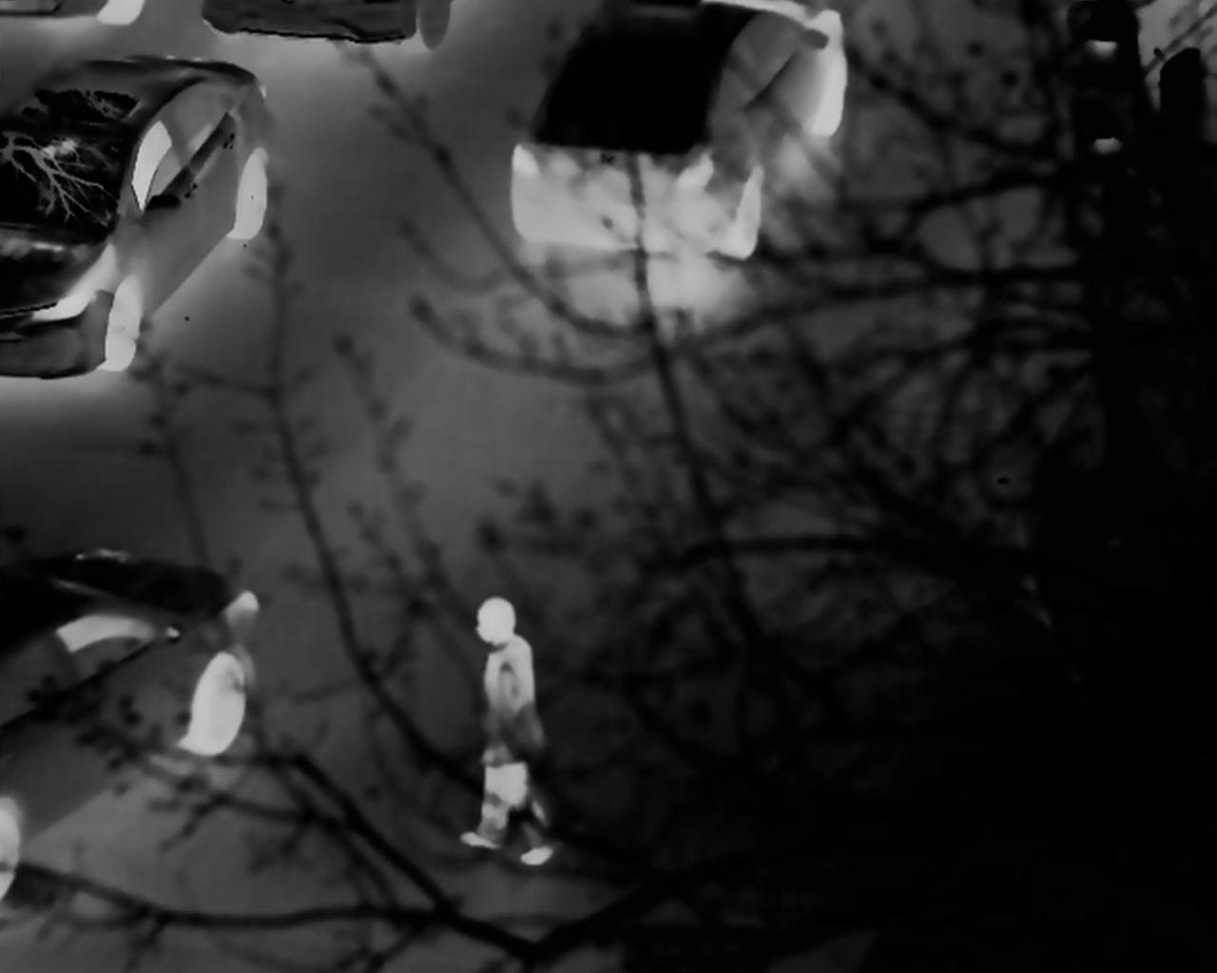person: (460, 597, 560, 858)
